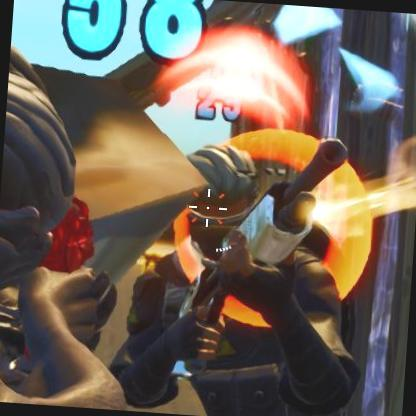person: (177, 143, 309, 416)
